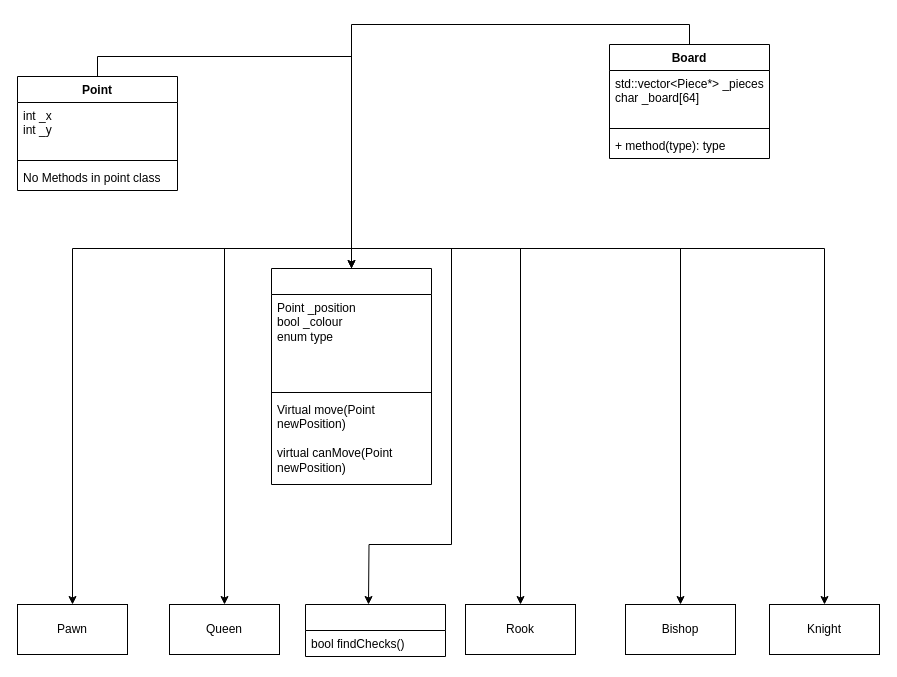
The diagram is 897 pixels wide and 677 high, and some of its shapes have lost their labels. The shapes that lost their labels are listed below. From the top down, each one's box as (x1, y1, x2, y2) in pixels, then its label:
(270, 268, 432, 484): Piece
(304, 604, 446, 656): King
